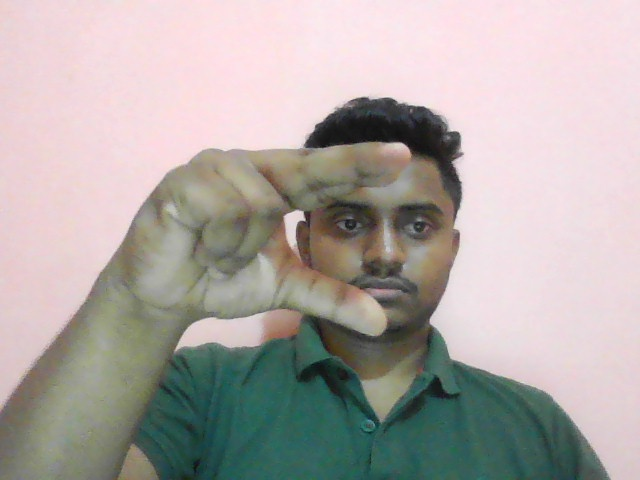No: (101, 135, 424, 352)
